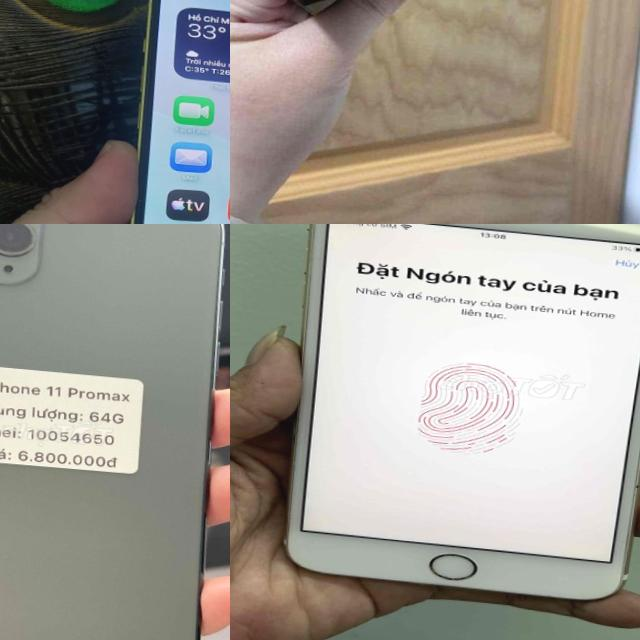gen_11: (0, 224, 230, 640)
gen_14: (104, 0, 230, 224)
gen_6: (283, 224, 640, 599)
